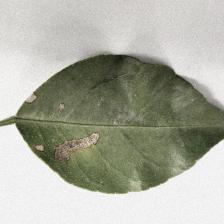canker: (20, 87, 103, 180)
